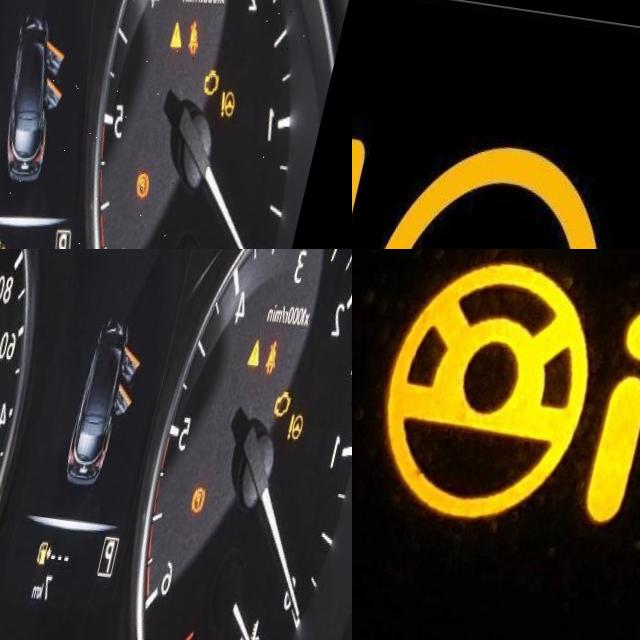Electronic Power Steering: (381, 249, 640, 523), (352, 113, 640, 249), (297, 396, 323, 429)
Electronic Power Steering Warning: (230, 73, 251, 104)
Seat Belt: (270, 323, 292, 362), (195, 6, 212, 39)
